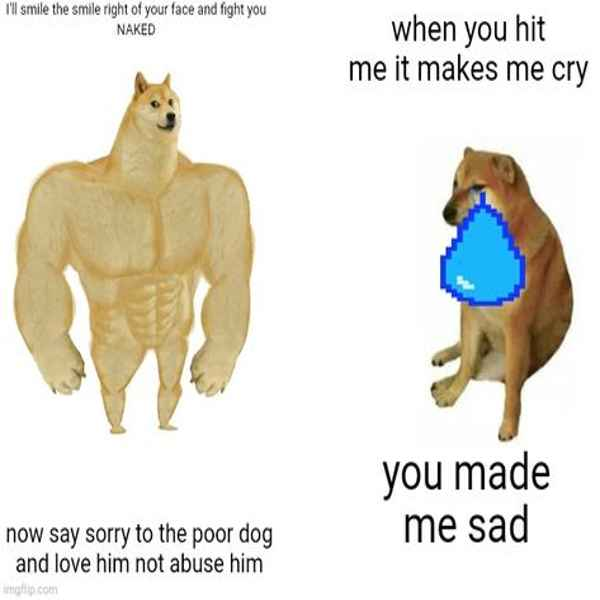doge: (437, 154, 521, 229), (131, 76, 186, 138)
